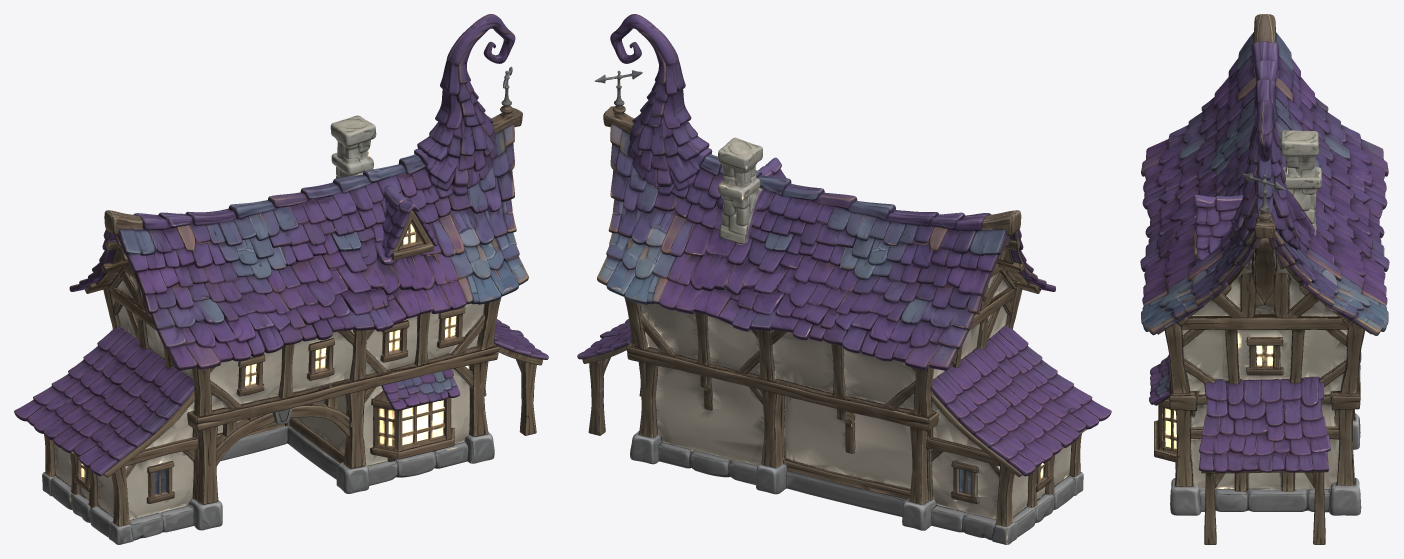
File: SilverBroomShop_300k.glb
3 renders of one model, left to right at view 1: azimuth 30°, elevation 25°; view 2: azimuth 150°, elevation 25°; view 3: azimuth 270°, elevation 25°, orthographic. The views are drawn at different scales.
Visible parts, largest first — view 1: Mesh_0; view 2: Mesh_0; view 3: Mesh_0.
Boxes of the visible parts, left/top/right/bottom form: Mesh_0: left=14, top=14, right=548, bottom=544; Mesh_0: left=577, top=14, right=1111, bottom=544; Mesh_0: left=1140, top=14, right=1389, bottom=544.
Bounding box in the file's own units: 1.9 × 1.56 × 0.8134.
1 material, 1 textured.
